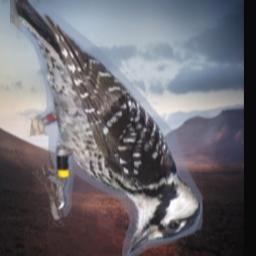Woodpecker: (11, 0, 204, 256)
